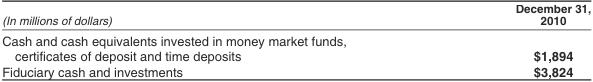table: (1, 1, 590, 78)
table column: (1, 1, 430, 78), (430, 1, 590, 78)
table column header: (1, 1, 590, 29)
table row: (1, 29, 590, 63), (1, 1, 590, 29), (1, 63, 590, 78)
